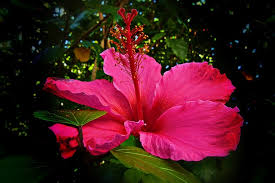hybiscus: (39, 6, 245, 162)
